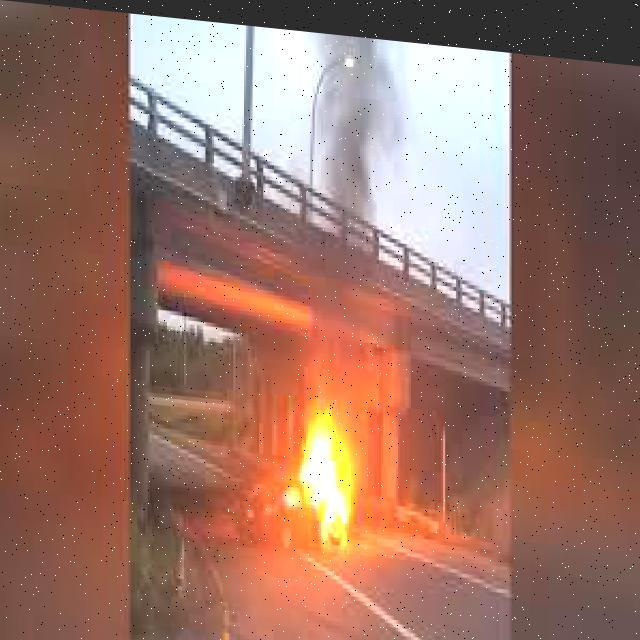Fire: (295, 382, 362, 544)
